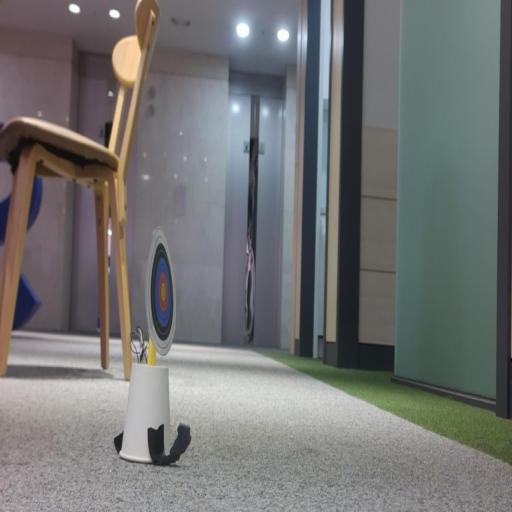target: (146, 228, 175, 354)
